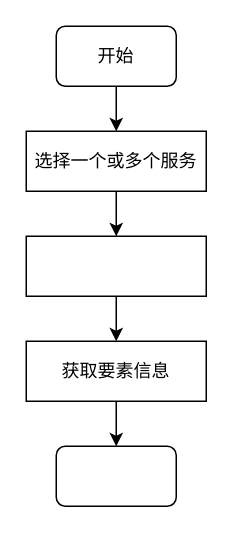
Image size: 233x533. Some labels were removed from this diagram. The shapes that lost their labels are listed below. From the top down, each one's box as (x1, y1, x2, y2) in pixels, then its label:
(25, 235, 206, 296): 点击地图要素
(55, 445, 176, 506): 结束
